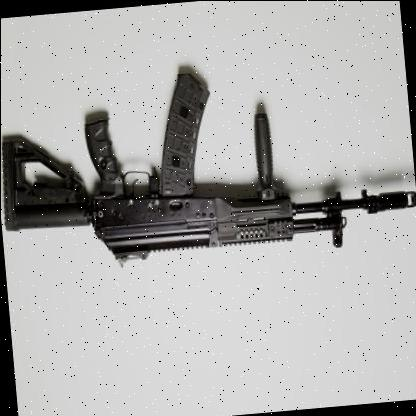rifle: (0, 36, 416, 295)
